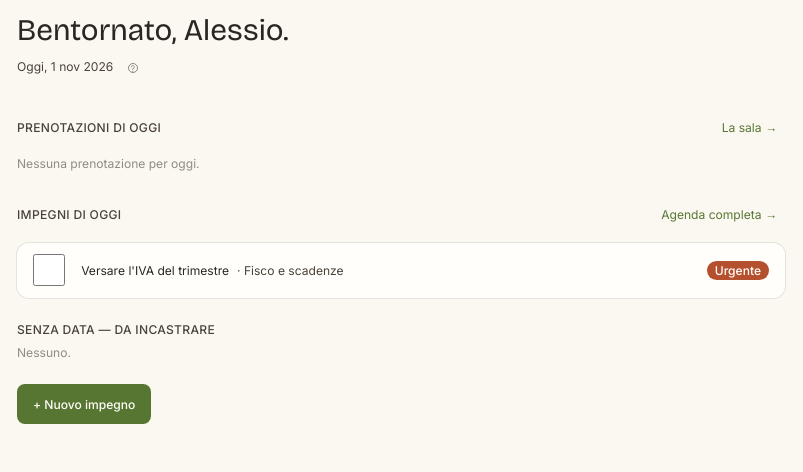
Scenario: 🔴 un impegno ricorrente spuntato dalla Dashboard › ⚠️ richiesta ripetuta e respinta (già fatto da un'altra parte): la riga torna e lo dice, niente scritto a mano
Click the checkbox named "Segna fatto: Versare l'IVA del trimestre": click(49, 270) x1=33 y1=254 x2=65 y2=286
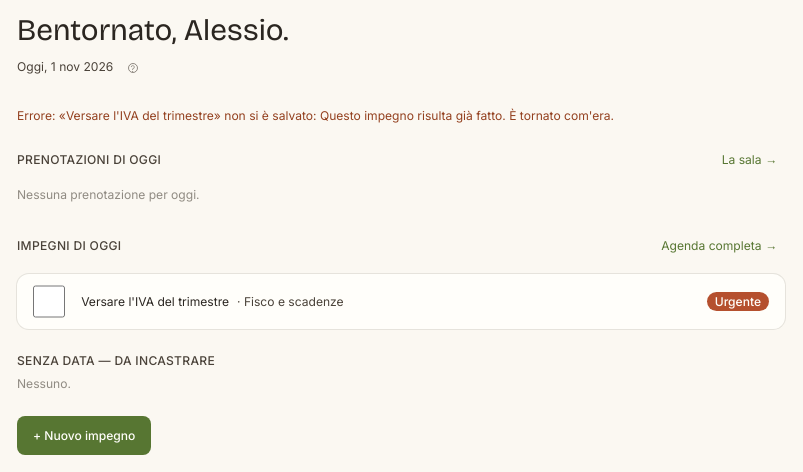
Expected: the text "risulta già fatto" is shown, x1=59 y1=108 x2=614 y2=123
